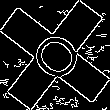O_SE: (22, 22, 88, 88)
